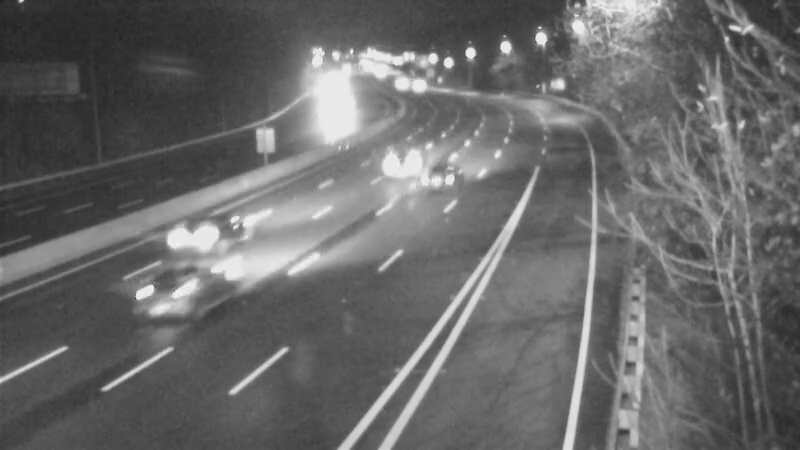vehicle: (365, 120, 445, 200), (402, 136, 482, 216), (166, 197, 246, 277), (124, 257, 204, 337), (376, 57, 426, 107), (393, 59, 443, 109)
